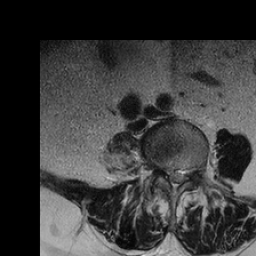CCS_normal: (171, 163, 178, 200)
LFS_stenosis: (185, 161, 194, 181)
LLS_normal: (178, 163, 185, 189)
RFS_severe_stenosis: (155, 157, 163, 185)
RLS_stenosis: (163, 162, 171, 187)
